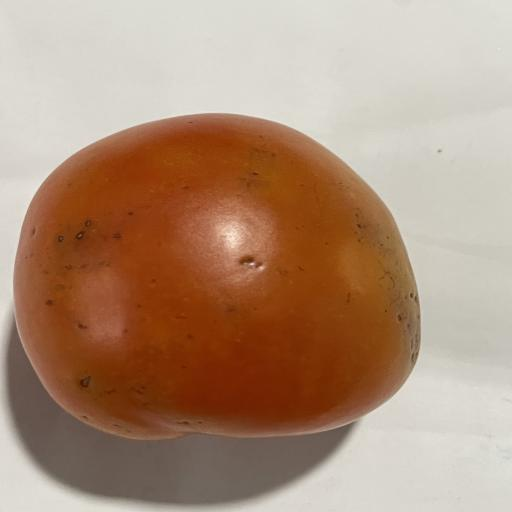ripe: (15, 114, 420, 440)
